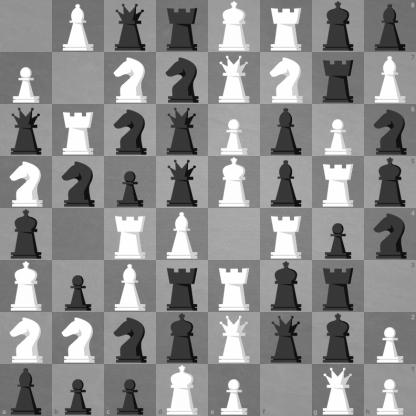B: (364, 52, 416, 104), (53, 1, 104, 52), (105, 261, 156, 312), (157, 209, 208, 260)
K: (156, 364, 209, 416), (1, 261, 52, 312), (209, 1, 260, 52), (209, 157, 260, 208)
N: (1, 157, 52, 208), (1, 313, 52, 364), (53, 313, 104, 364), (105, 53, 156, 104), (261, 53, 312, 104)
P: (364, 312, 416, 364), (364, 364, 416, 416), (209, 364, 260, 416), (1, 53, 52, 104), (209, 105, 260, 156), (313, 105, 364, 156)
Q: (312, 364, 364, 416), (209, 53, 260, 104), (209, 313, 260, 364)
R: (53, 105, 104, 156), (105, 209, 156, 260), (209, 261, 260, 312), (261, 1, 312, 52), (261, 209, 312, 260), (313, 157, 364, 208)
b: (0, 364, 52, 416), (364, 0, 416, 52), (261, 105, 312, 156), (261, 157, 312, 208)
board: (0, 0, 415, 415)
k: (364, 156, 416, 209), (1, 209, 52, 260), (157, 313, 208, 364), (261, 261, 312, 312), (313, 1, 364, 52), (313, 313, 364, 364)
n: (364, 104, 416, 156), (364, 209, 416, 260), (53, 157, 104, 208), (105, 105, 156, 156), (105, 313, 156, 364), (157, 53, 208, 104)
p: (52, 364, 104, 416), (104, 364, 156, 416), (53, 261, 104, 312), (105, 157, 156, 208), (313, 209, 364, 260)
q: (1, 105, 52, 156), (105, 1, 156, 52), (157, 105, 208, 156), (157, 157, 208, 208), (261, 313, 312, 364)
r: (157, 1, 208, 52), (157, 261, 208, 312), (313, 53, 364, 104), (313, 261, 364, 312)
